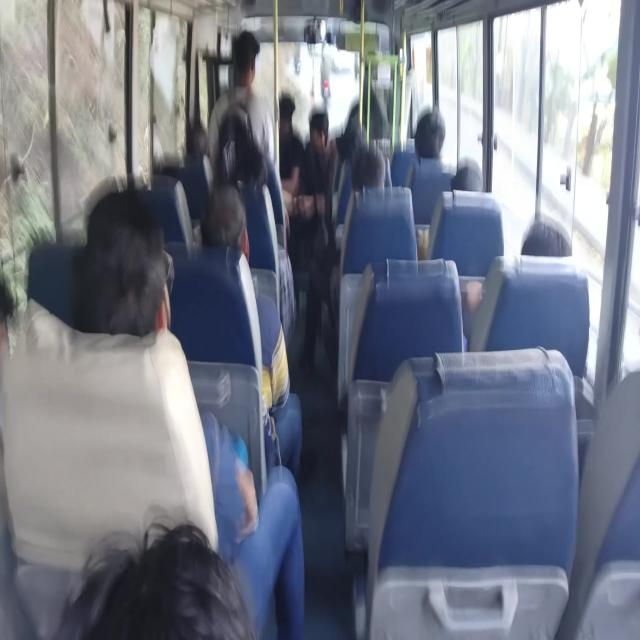person: (74, 499, 268, 640), (79, 199, 198, 358), (0, 223, 69, 324), (455, 152, 529, 222), (200, 194, 242, 263), (230, 140, 276, 192), (176, 118, 222, 163), (517, 209, 557, 258), (411, 113, 450, 163), (399, 110, 438, 156), (304, 100, 334, 158), (273, 94, 310, 141), (365, 151, 395, 203), (342, 130, 381, 166), (82, 189, 164, 206), (224, 40, 258, 76), (150, 146, 174, 183)
